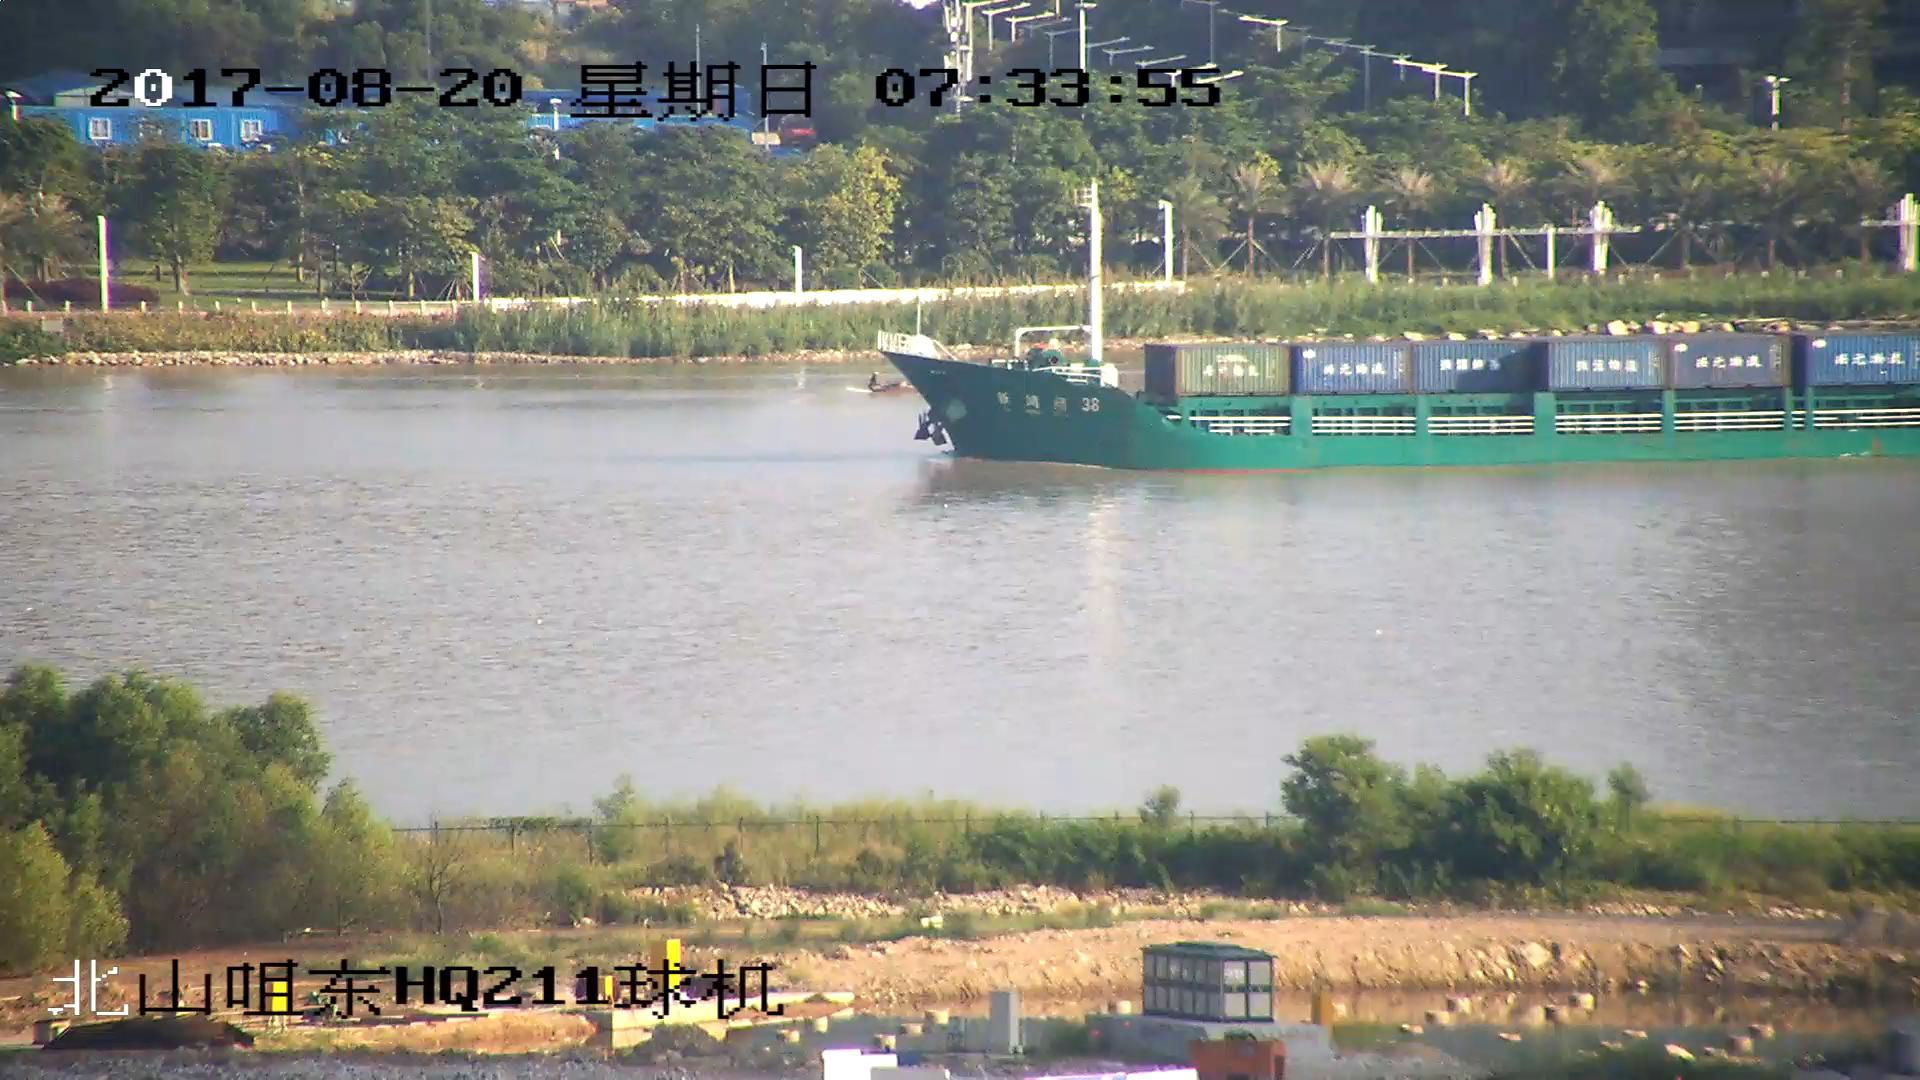general cargo ship: (875, 190, 1920, 478)
